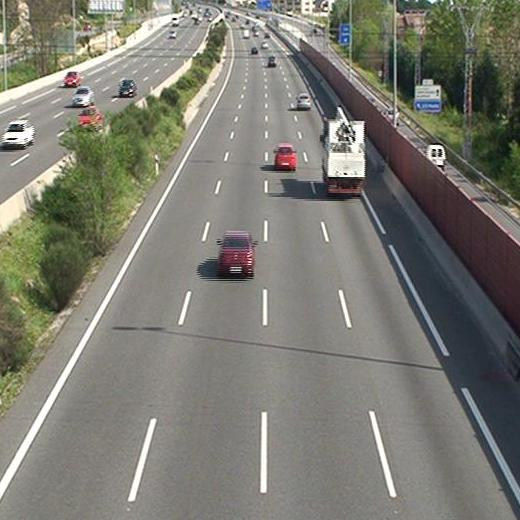car: (217, 231, 257, 276), (273, 143, 297, 170), (296, 93, 312, 111), (266, 55, 278, 66)
small-truck: (320, 108, 366, 195)
